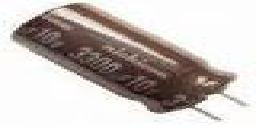Electrolytic Capacitor: (11, 2, 252, 128)
